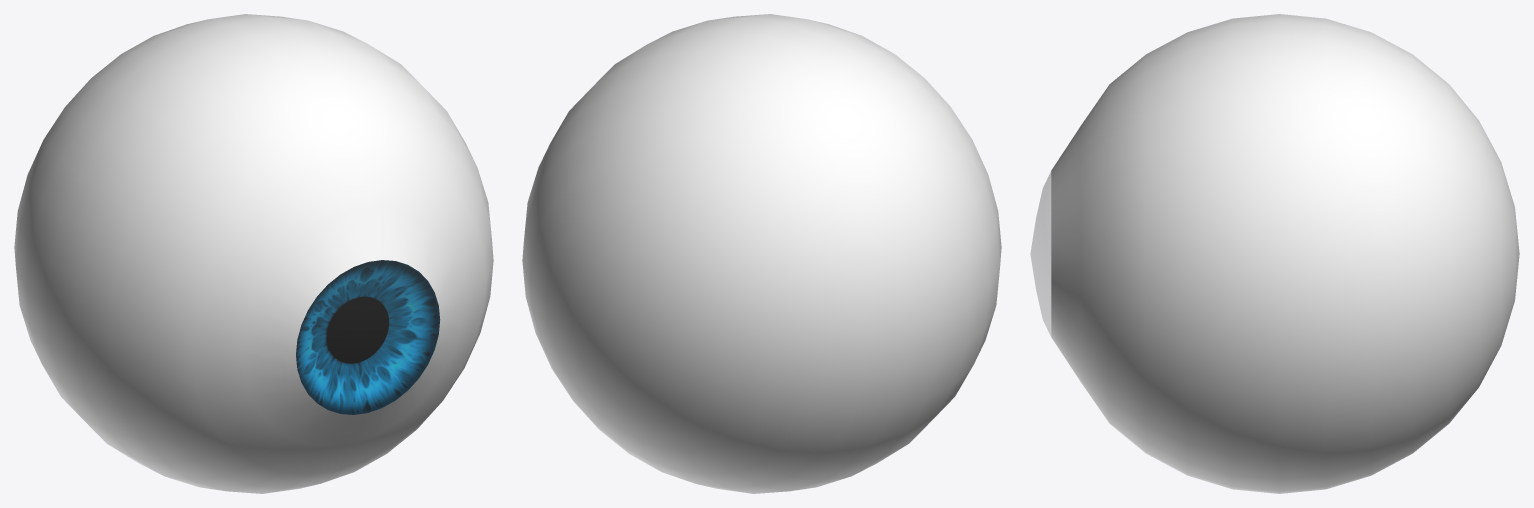
Rendered from eye.glb.
3 views of the same model, side by side, from view 1: azimuth 30°, elevation 25°; view 2: azimuth 150°, elevation 25°; view 3: azimuth 270°, elevation 25° (orthographic).
Parts seen in each view (by area): view 1: Eyeblank, Eye, Iris, Pupile; view 2: Eyeblank; view 3: Eyeblank, Eye.
Boxes of the visible parts, box(x1,y1,x2,y2) form: Eyeblank: box(14, 14, 493, 493); Eye: box(296, 260, 439, 414); Iris: box(296, 260, 440, 414); Pupile: box(326, 296, 389, 363); Eyeblank: box(522, 14, 1001, 493); Eyeblank: box(1051, 14, 1519, 493); Eye: box(1030, 172, 1050, 335).
Bounding box in the file's own units: 1.96 × 1.96 × 2.
Materials: 4 (4 with a texture image).
